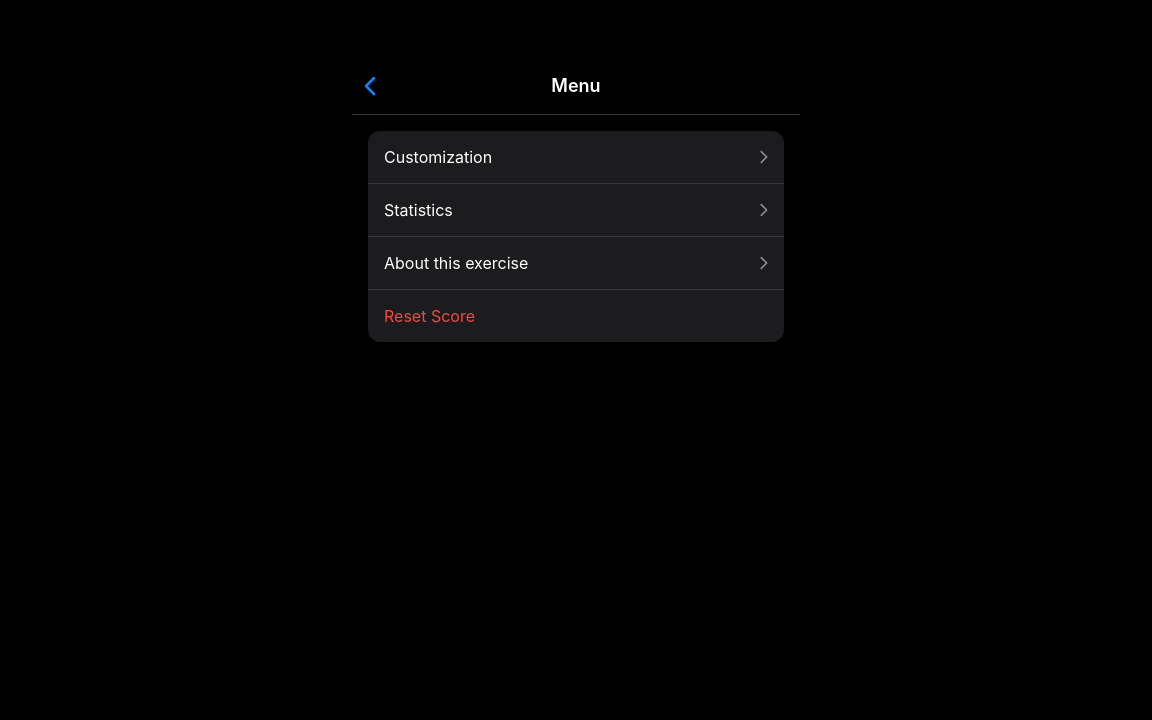
Scenario: thin evidence › agrees with itself when only one item is short
This screenshot has width=1152, height=720.
Click the button "Statistics".
click(418, 210)  # box [368, 183, 784, 236]
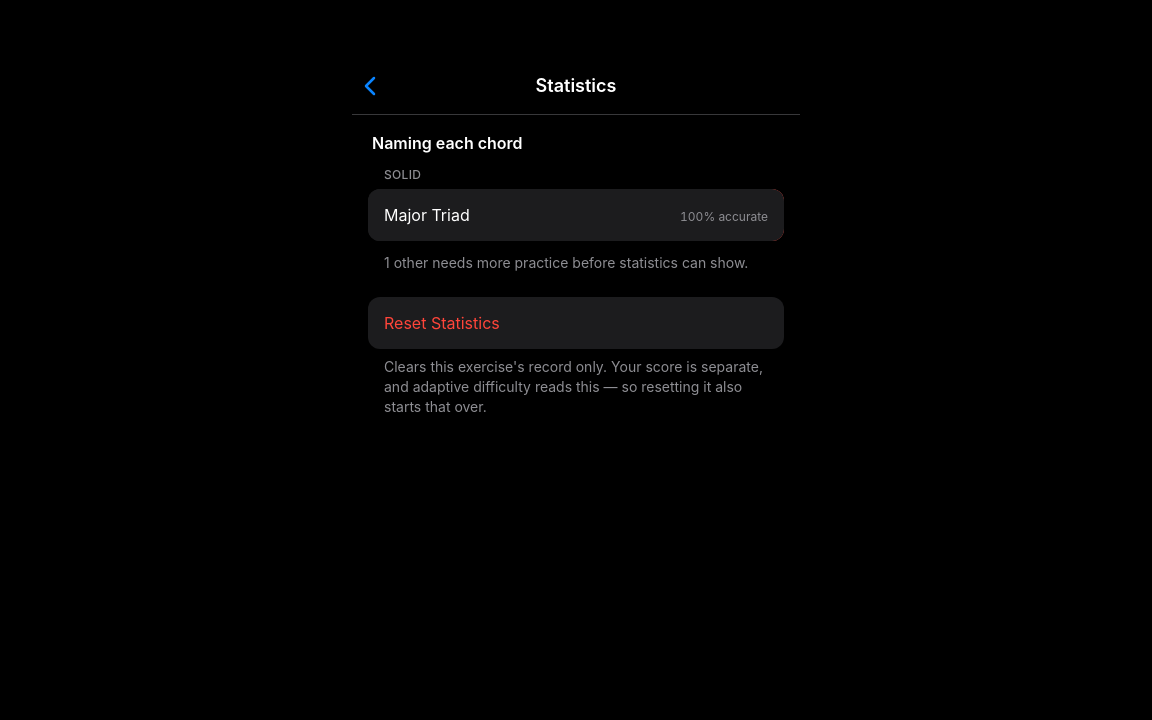
Check: the text "1 other needs more practice before statistics can show." is shown, box [368, 253, 784, 273]
